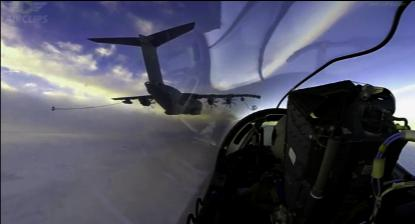A400M: (86, 20, 260, 114)
